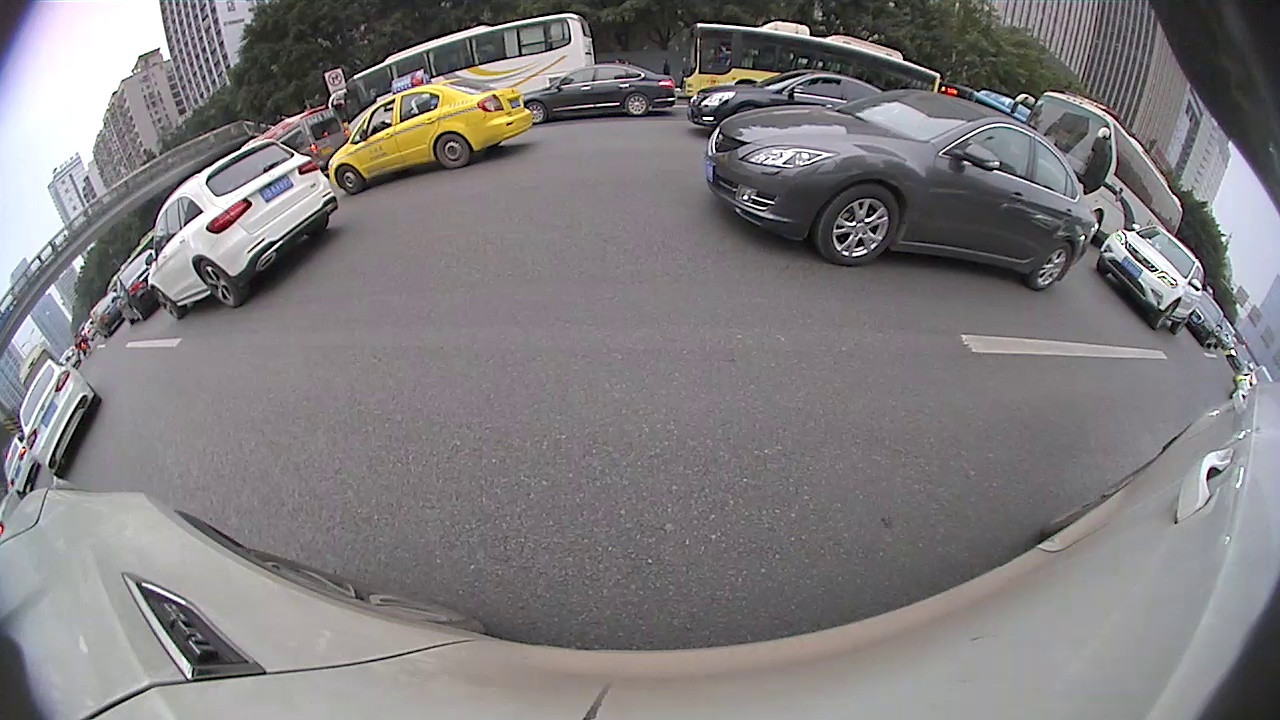bus: (325, 12, 593, 117), (1010, 84, 1185, 244), (678, 16, 944, 102)
car: (703, 89, 1099, 289), (146, 136, 339, 309), (332, 71, 531, 195), (688, 69, 902, 133), (1092, 219, 1202, 336), (13, 361, 101, 473), (514, 62, 681, 121), (267, 102, 345, 164), (113, 251, 170, 323), (3, 433, 42, 495), (1190, 287, 1226, 348)
front: (816, 182, 899, 265), (151, 285, 188, 319), (1152, 299, 1180, 328), (335, 165, 364, 192), (524, 100, 545, 123)
rear: (197, 258, 244, 305), (1031, 244, 1073, 288), (437, 135, 470, 166), (625, 92, 648, 117), (1170, 312, 1192, 334)
